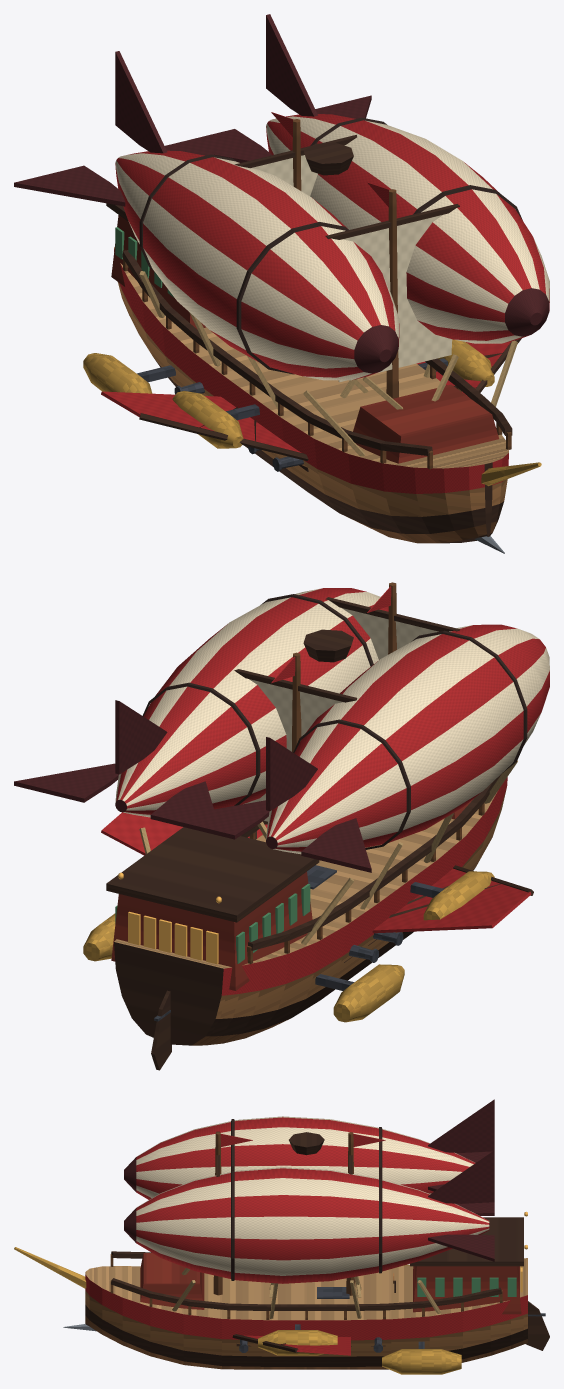
File: SM_Ship_Galleon_HQ.glb
3 renders of one model, top to bottom at view 1: azimuth 30°, elevation 25°; view 2: azimuth 150°, elevation 25°; view 3: azimuth 270°, elevation 25°, orthographic. The views are drawn at different scales.
Parts seen in each view (by area): view 1: SM_Ship_Galleon_HQ; view 2: SM_Ship_Galleon_HQ; view 3: SM_Ship_Galleon_HQ.
Part boxes in pixels (left/top/right/bottom): SM_Ship_Galleon_HQ: left=14, top=14, right=549, bottom=553; SM_Ship_Galleon_HQ: left=14, top=582, right=549, bottom=1070; SM_Ship_Galleon_HQ: left=14, top=1099, right=549, bottom=1374.
Size of the model in its own units: 17.08 by 14.18 by 29.08.
Materials: 1 (1 with a texture image).
